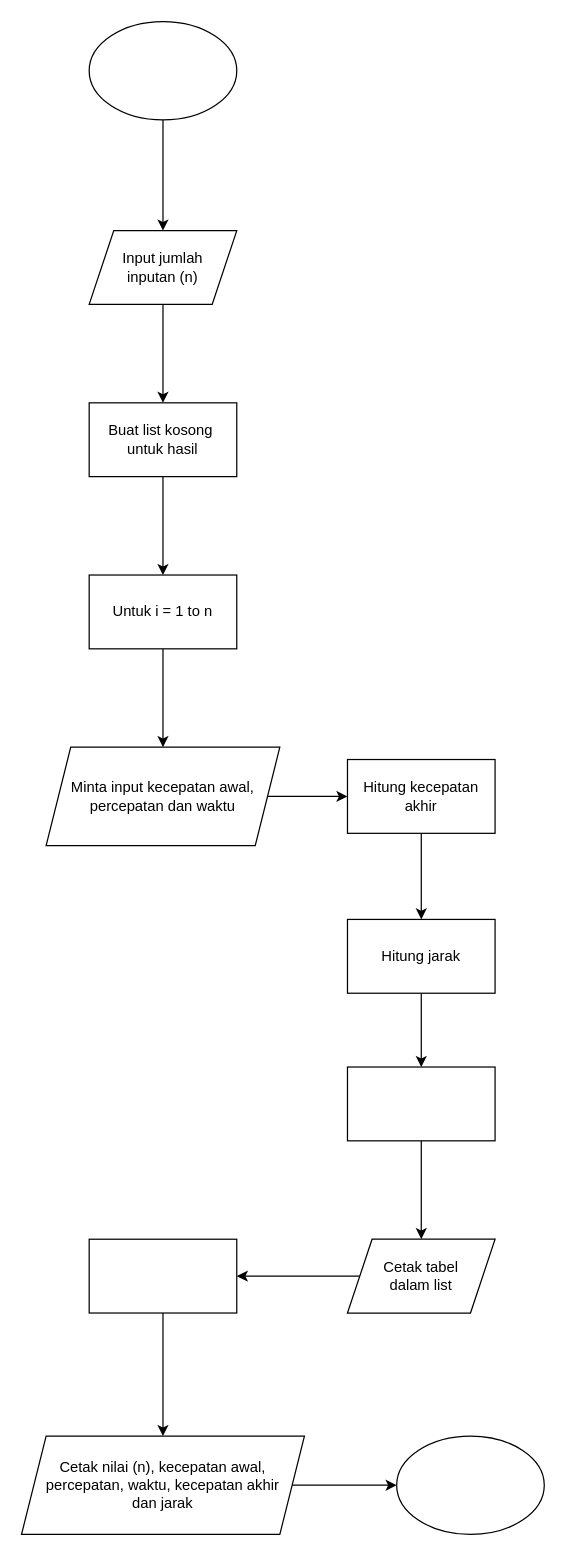
The diagram is 566 pixels wide and 1556 high, and some of its shapes have lost their labels. The shapes that lost their labels are listed below. From the top down, each one's box as (x1, y1, x2, y2) in pixels, then its label:
(88, 20, 237, 120): Start
(346, 1066, 495, 1141): SImpan hasil dalam list
(88, 1238, 237, 1313): Untuk setiap elemen dalam list
(395, 1435, 544, 1534): End
